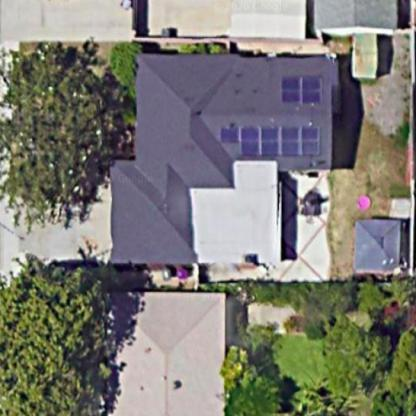solar_panel: (215, 120, 332, 161), (279, 72, 330, 109)
